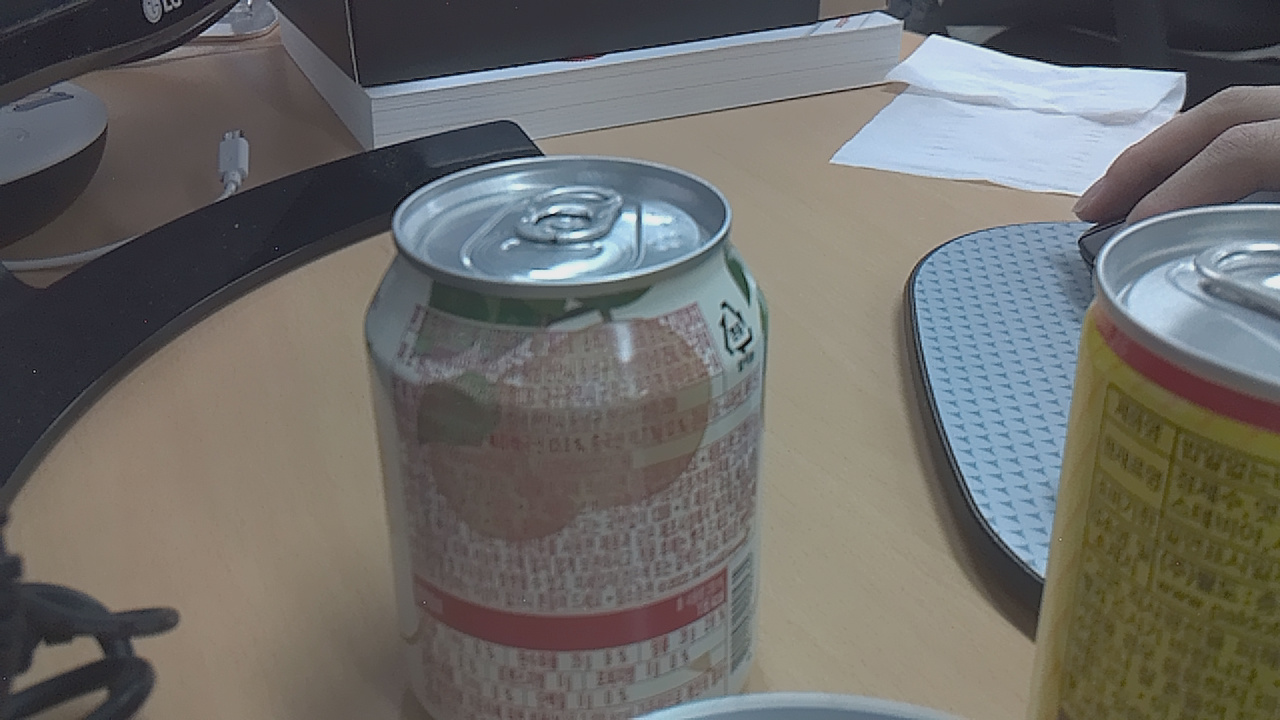IdH (pear juice): (360, 153, 777, 716)
